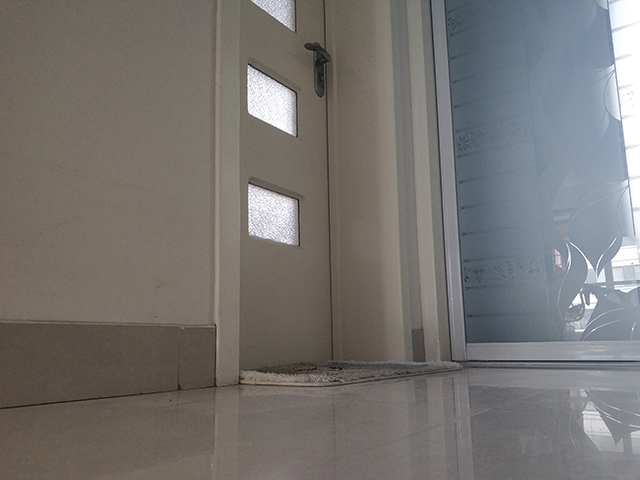carpet: (238, 358, 467, 388)
